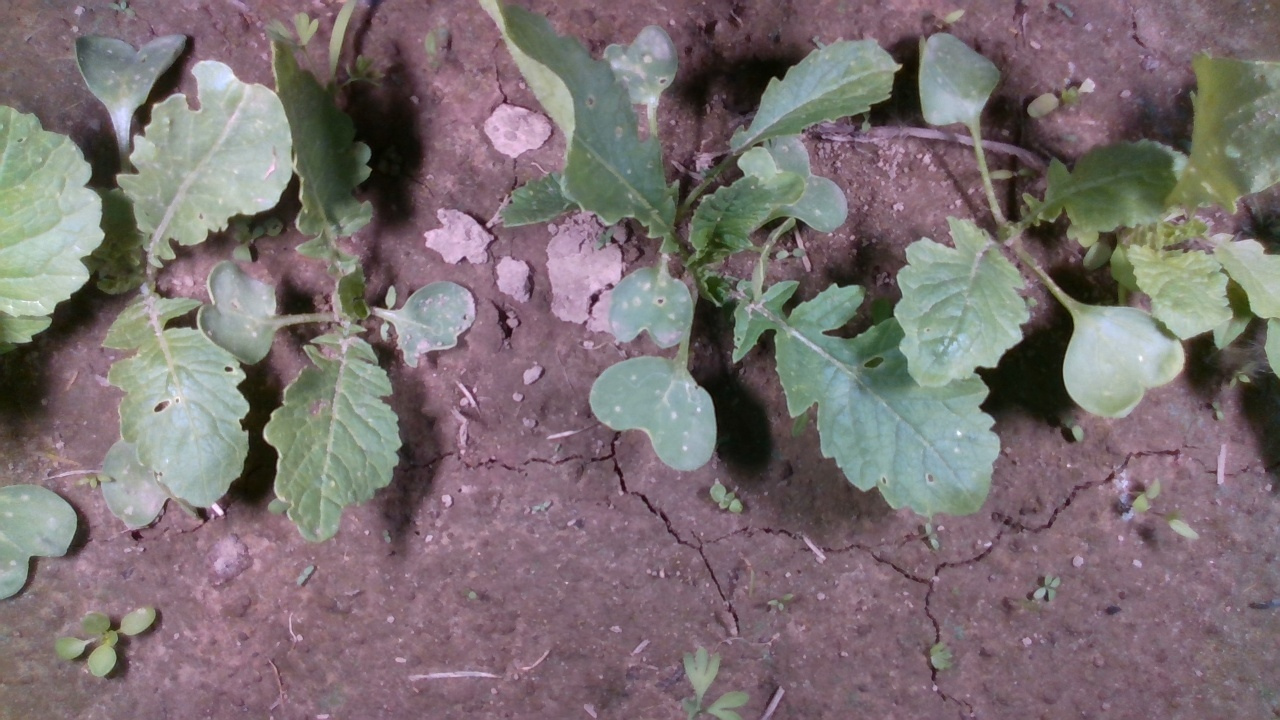weed: (707, 479, 746, 516), (1129, 477, 1162, 513), (1031, 569, 1063, 603), (765, 589, 797, 612), (921, 521, 940, 552), (1208, 399, 1227, 425)
